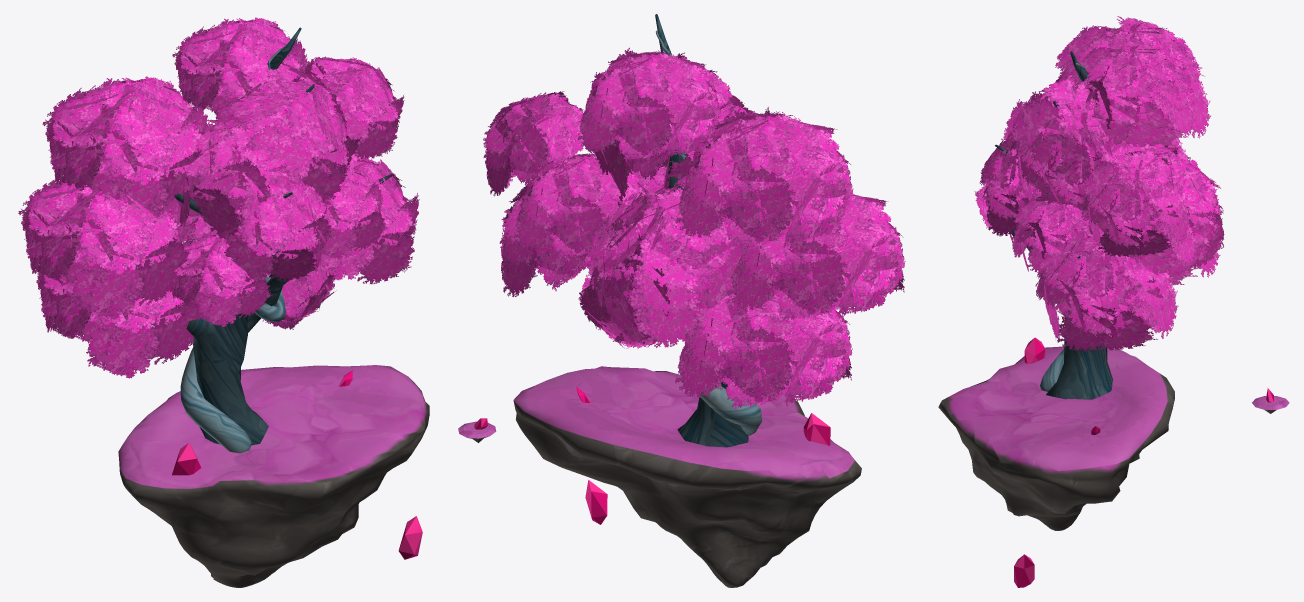
Rendered from FloatingIsland_WithCrystals.fbx.
3 renders of one model, left to right at view 1: azimuth 30°, elevation 25°; view 2: azimuth 150°, elevation 25°; view 3: azimuth 270°, elevation 25°, orthographic. The views are drawn at different scales.
Parts seen in each view (by area): view 1: LeafDome, Island, Tree, Vine, FloatingCrystal, BigLandCrystal; view 2: LeafDome, Island, Tree, Vine, FloatingCrystal, BigLandCrystal; view 3: LeafDome, Island, Tree, FloatingCrystal, Vine.
Boxes of the visible parts, box(x1,y1,x2,y2) form: LeafDome: box(18, 17, 419, 378); Island: box(118, 365, 429, 587); Tree: box(136, 27, 392, 445); Vine: box(180, 41, 295, 453); FloatingCrystal: box(398, 516, 422, 559); BigLandCrystal: box(172, 443, 201, 475); LeafDome: box(483, 47, 905, 410); Island: box(513, 366, 861, 587); Tree: box(655, 14, 748, 447); Vine: box(656, 30, 761, 435); FloatingCrystal: box(585, 480, 607, 524); BigLandCrystal: box(803, 413, 830, 445); LeafDome: box(974, 16, 1224, 351); Island: box(938, 346, 1174, 530); Tree: box(995, 51, 1113, 399); FloatingCrystal: box(1014, 554, 1034, 587); Vine: box(1040, 63, 1085, 391).
Bounding box in the file's own units: 270 × 361 × 227.
